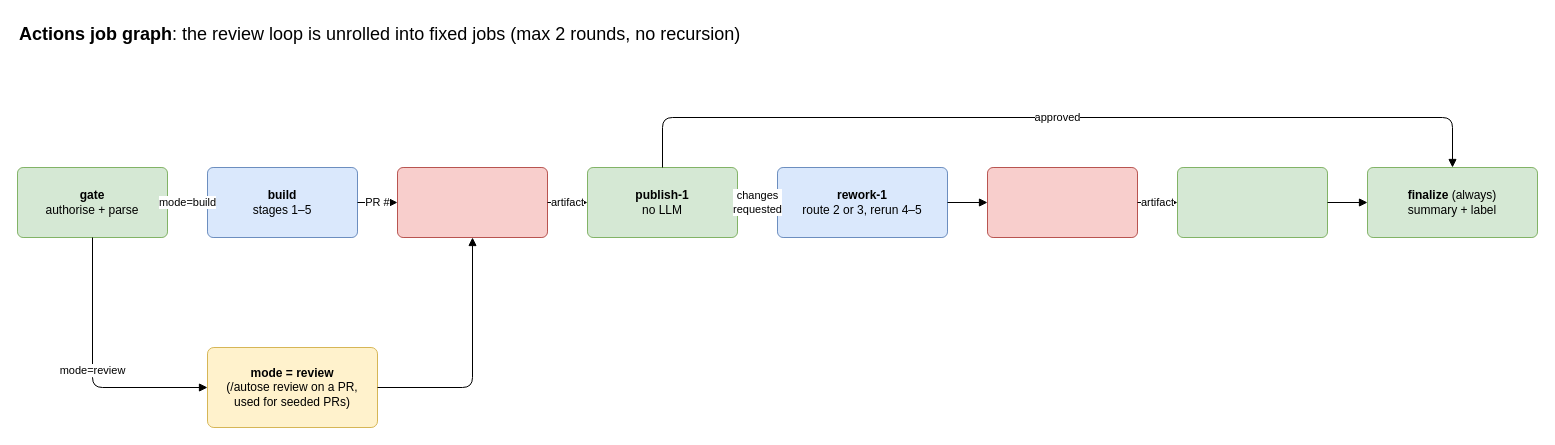
Some shapes in this 1555 by 445 pixel diagram are drawn without their labels. Each missing label, with the box of its shape:
publish-2 no LLM: (1176, 166, 1328, 238)
review-1 read-only: (396, 166, 548, 238)
review-2 read-only: (986, 166, 1138, 238)
